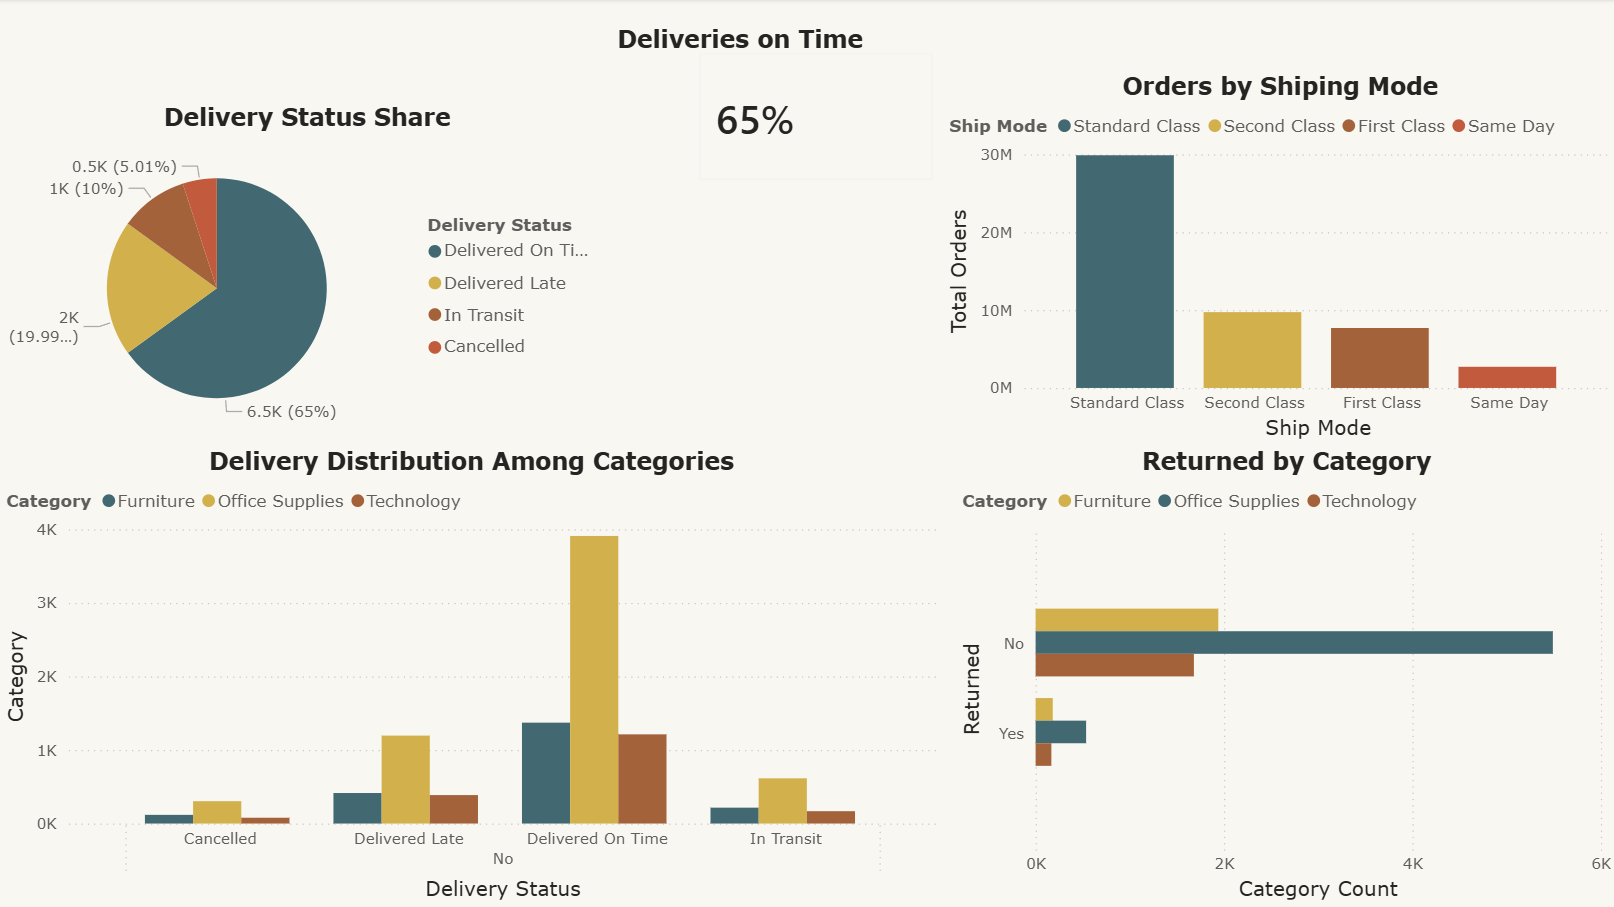

Layout of this report page (visuals, bound fields, positions):
{"tool":"powerbi","page":{"name":"Page 3","canvas":[1280,720],"ordinal":2},"visuals":[{"type":"clusteredBarChart","title":"Returned by Category","fields":{"Series":["Retails Order Full Dataset.Category"],"Category":["Retails Order Full Dataset (2).Returned"],"Y":["CountNonNull(Retails Order Full Dataset (2).Category)"]},"box":[756.7,353.4,523.3,364],"z":1000},{"type":"pieChart","title":"Delivery Status Share","fields":{"Category":["Retails Order Full Dataset (2).Delivery_Status"],"Y":["CountNonNull(Retails Order Full Dataset (2).Category)"]},"box":[0,81.7,486.1,271.7],"z":2000},{"type":"cardVisual","title":"Deliveries on Time","fields":{"Data":["Sum(Data2.OnTime %)"]},"box":[433.4,0,304.1,143.2],"z":2001},{"type":"columnChart","title":"Orders by Shiping Mode","fields":{"Category":["Retails Order Full Dataset.Ship Mode"],"Series":["Retails Order Full Dataset.Ship Mode"],"Y":["Sum(Retails Order Full Dataset.Total Orders)"]},"box":[746.1,57.3,533.9,296.1],"z":2003},{"type":"clusteredColumnChart","title":"Delivery Distribution Among Categories","fields":{"Category":["Retails Order Full Dataset.Return Status","Data2.Delivery_Status"],"Y":["CountNonNull(Data2.Category)"],"Series":["Data2.Category"]},"box":[0,353.4,746.1,364],"z":2004}]}

Visuals, with their boxes in screenshot pixels (x1, y1, x2, y2), scaled from the page's 1280x720 canvas onto the 1614x907 screenshot:
"Returned by Category" clusteredBarChart: Rect(954, 445, 1613, 904)
"Delivery Status Share" pieChart: Rect(0, 103, 613, 445)
"Deliveries on Time" cardVisual: Rect(546, 0, 930, 180)
"Orders by Shiping Mode" columnChart: Rect(941, 72, 1613, 445)
"Delivery Distribution Among Categories" clusteredColumnChart: Rect(0, 445, 941, 904)
